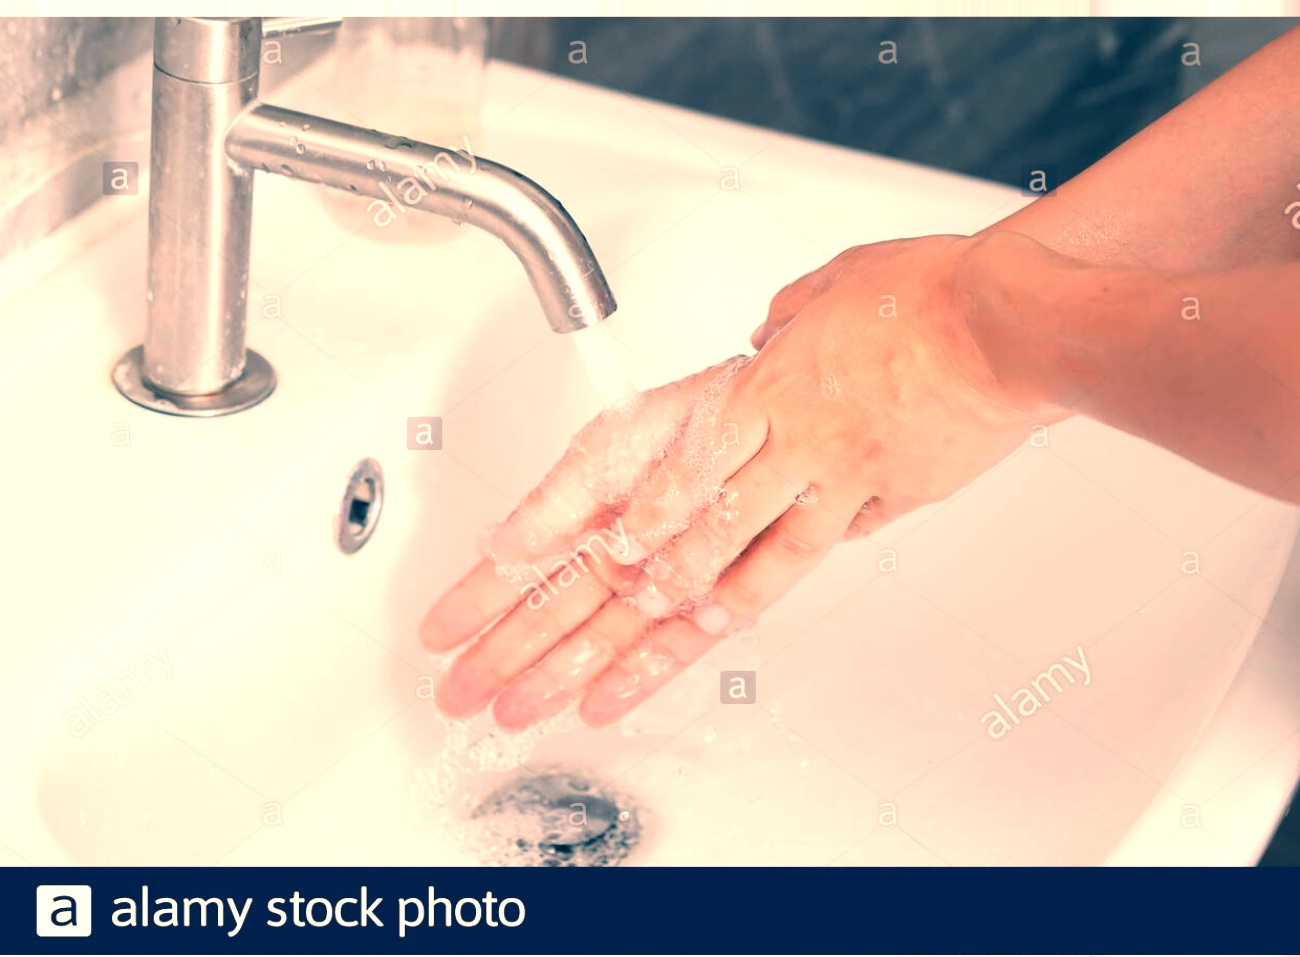washing hand: (156, 66, 935, 772)
